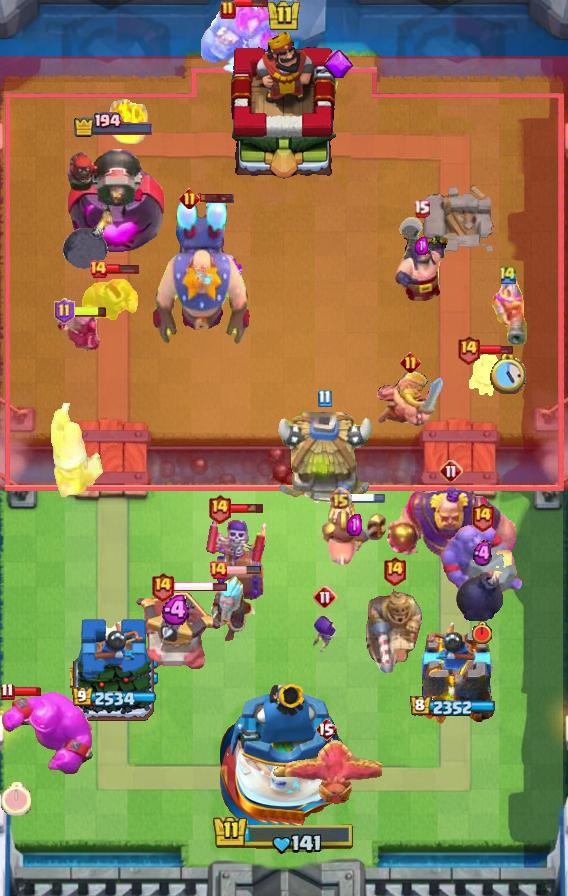archer-queen: (439, 521, 525, 601)
baby-dragon: (455, 550, 515, 622), (63, 209, 114, 271)
bat: (465, 353, 507, 397)
battle-ram: (55, 309, 101, 355)
bomb-tower: (489, 274, 527, 346)
cannoneer-tower: (198, 0, 282, 92)
clock: (212, 814, 356, 856)
clone: (0, 690, 96, 776)
electro-spirit: (161, 595, 193, 625), (473, 541, 492, 568), (346, 514, 361, 536), (416, 237, 429, 255)
elixir: (490, 354, 526, 394), (1, 782, 31, 816), (471, 621, 493, 645)
emote: (173, 580, 228, 593), (478, 343, 514, 357), (349, 492, 386, 505), (72, 305, 108, 318), (198, 192, 235, 204), (231, 502, 266, 514), (106, 263, 139, 275), (8, 686, 42, 697), (226, 565, 262, 575), (234, 0, 270, 8)
firecracker: (50, 403, 106, 500)
flying-machine: (81, 274, 139, 328)
freeze: (321, 500, 387, 570)
goblin: (310, 614, 340, 654)
goblin-giant: (375, 370, 445, 428)
king-tower: (219, 678, 349, 826), (222, 31, 346, 181)
lava-pup: (133, 591, 221, 673)
lightning: (382, 487, 520, 583)
little-prince: (150, 199, 254, 347)
monk: (392, 216, 450, 302)
mortar: (201, 573, 261, 645)
mother-witch: (270, 739, 382, 807)
prince: (273, 412, 375, 508)
queen-tower: (70, 616, 158, 731), (411, 619, 495, 731)
ram-rider: (364, 575, 424, 677)
selected: (73, 112, 155, 138), (410, 696, 496, 718), (71, 687, 156, 709)
skeleton-king-bar: (205, 511, 267, 603)
skeleton-king-skill: (324, 50, 354, 78)
text: (208, 492, 233, 523), (470, 501, 495, 532), (149, 571, 174, 602), (456, 335, 481, 365), (382, 555, 406, 586), (439, 459, 463, 483), (313, 585, 337, 609), (53, 298, 75, 324), (329, 487, 352, 510), (315, 717, 337, 741), (179, 187, 201, 209), (399, 351, 421, 373), (498, 264, 518, 285), (88, 259, 108, 279), (208, 560, 228, 580), (220, 0, 236, 20), (414, 199, 431, 217), (317, 388, 332, 407), (1, 682, 16, 701)
tower-bar: (62, 138, 166, 256)
valkyrie: (105, 95, 153, 147)
